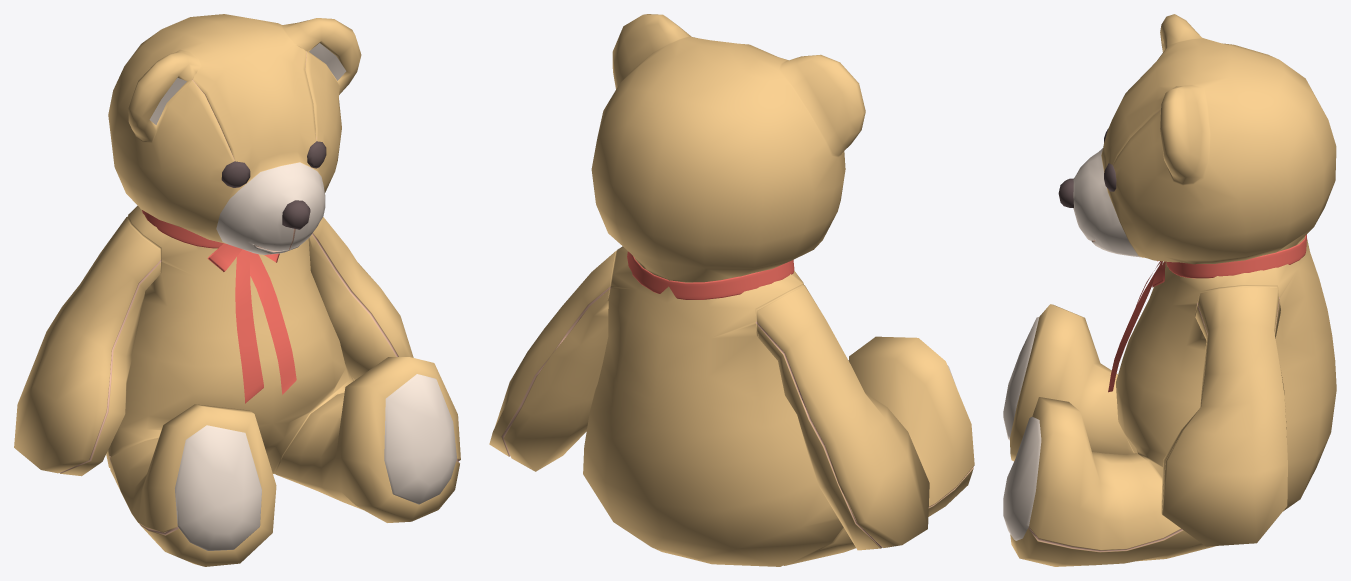
The model's file is kuma.gltf.
3 renders of one model, left to right at view 1: azimuth 30°, elevation 25°; view 2: azimuth 150°, elevation 25°; view 3: azimuth 270°, elevation 25°, orthographic. The views are drawn at different scales.
Parts seen in each view (by area): view 1: node-0; view 2: node-0; view 3: node-0.
Part boxes in pixels (left/top/right/bottom): node-0: left=14, top=14, right=460, bottom=566; node-0: left=489, top=14, right=974, bottom=566; node-0: left=1003, top=14, right=1336, bottom=566.
Bounding box in the file's own units: 605 × 699 × 456.
